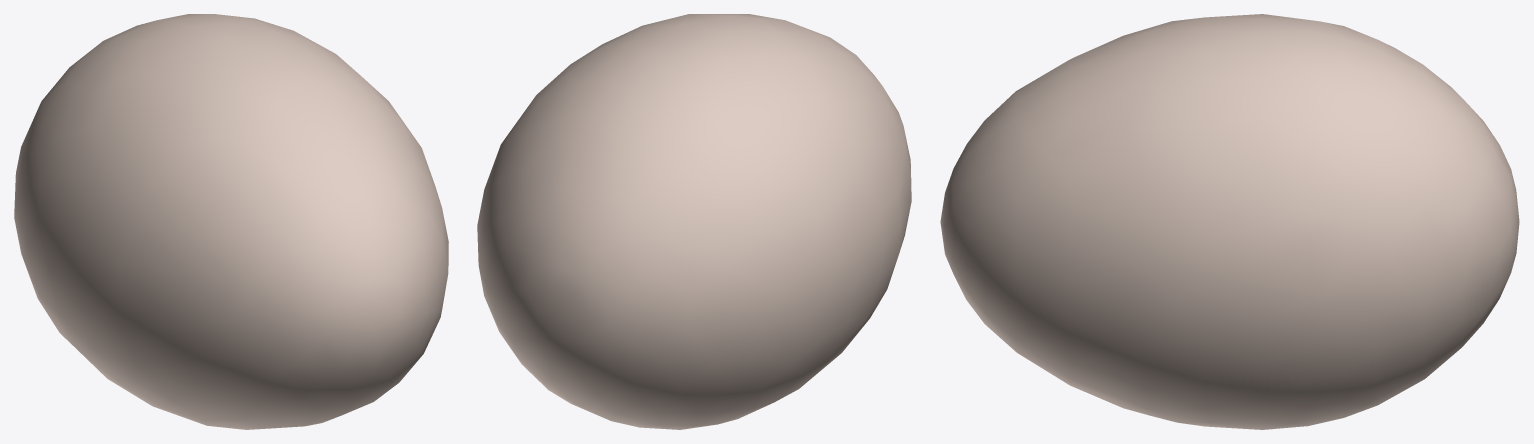
File: MeshEgg_23_0.obj
3 views of the same model, side by side, from view 1: azimuth 30°, elevation 25°; view 2: azimuth 150°, elevation 25°; view 3: azimuth 270°, elevation 25° (orthographic). The views are drawn at different scales.
Parts seen in each view (by area): view 1: Egg_23; view 2: Egg_23; view 3: Egg_23.
Boxes of the visible parts, box(x1,y1,x2,y2) form: Egg_23: box(14, 14, 448, 429); Egg_23: box(477, 14, 911, 429); Egg_23: box(940, 14, 1519, 429).
Bounding box in the file's own units: 0.0528 × 0.0528 × 0.0736.
